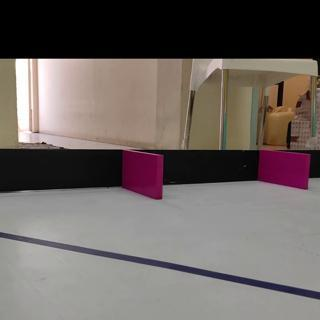xparking: (263, 155, 308, 189), (125, 157, 161, 196)
